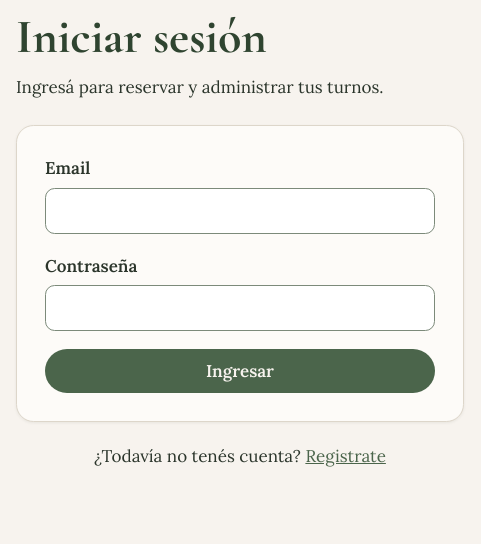
Scenario: LoginPage › valida los campos antes de enviar
This screenshot has width=481, height=544.
Click the button "Ingresar" at (240, 371), box [45, 349, 435, 393]
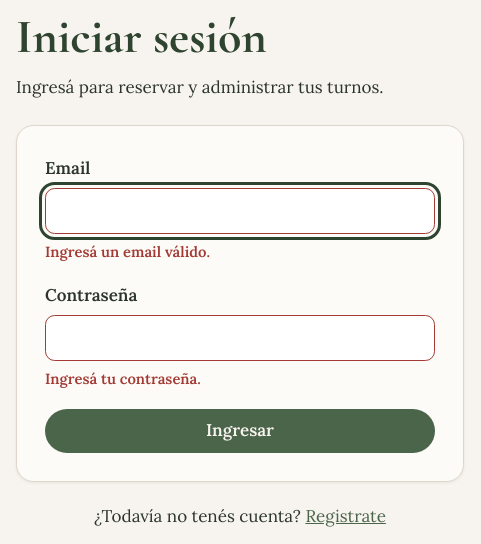
Expected: the text "Ingresá un email válido." is shown, [45, 242, 210, 260]
Expected: the text "Ingresá tu contraseña." is shown, [45, 369, 201, 388]
